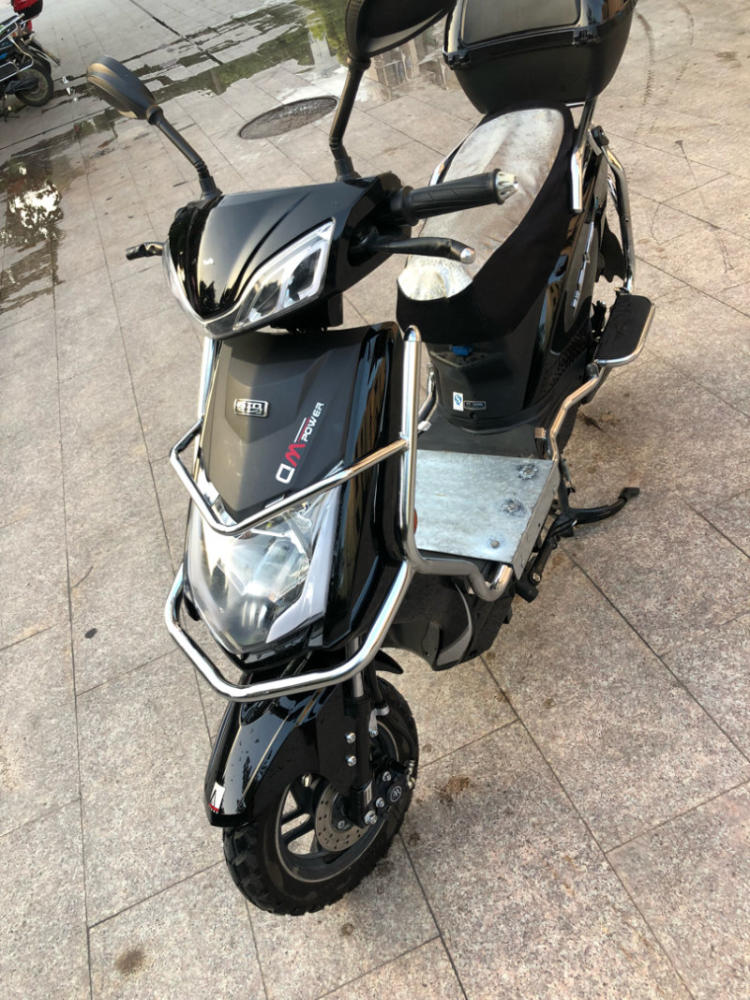电动车: (74, 1, 661, 915)
